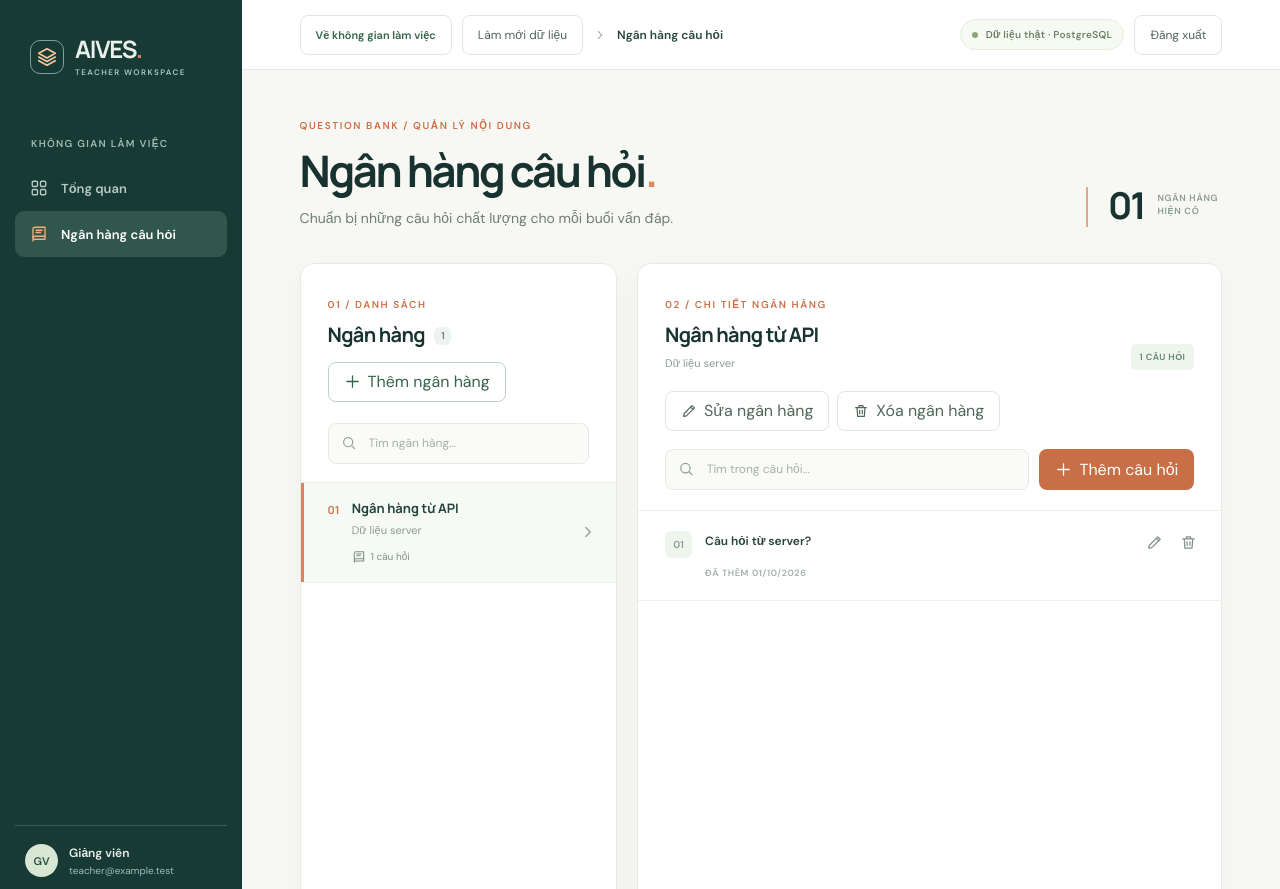
it: Question Bank API-connected route › keeps a nonempty bank on 409 and removes it only after a successful DELETE
Expected: the text "Câu hỏi từ server?" is shown, 705,533 -> 811,549
Click the button "Xóa ngân hàng". click: (919,411)
box: 837,391 -> 1000,431
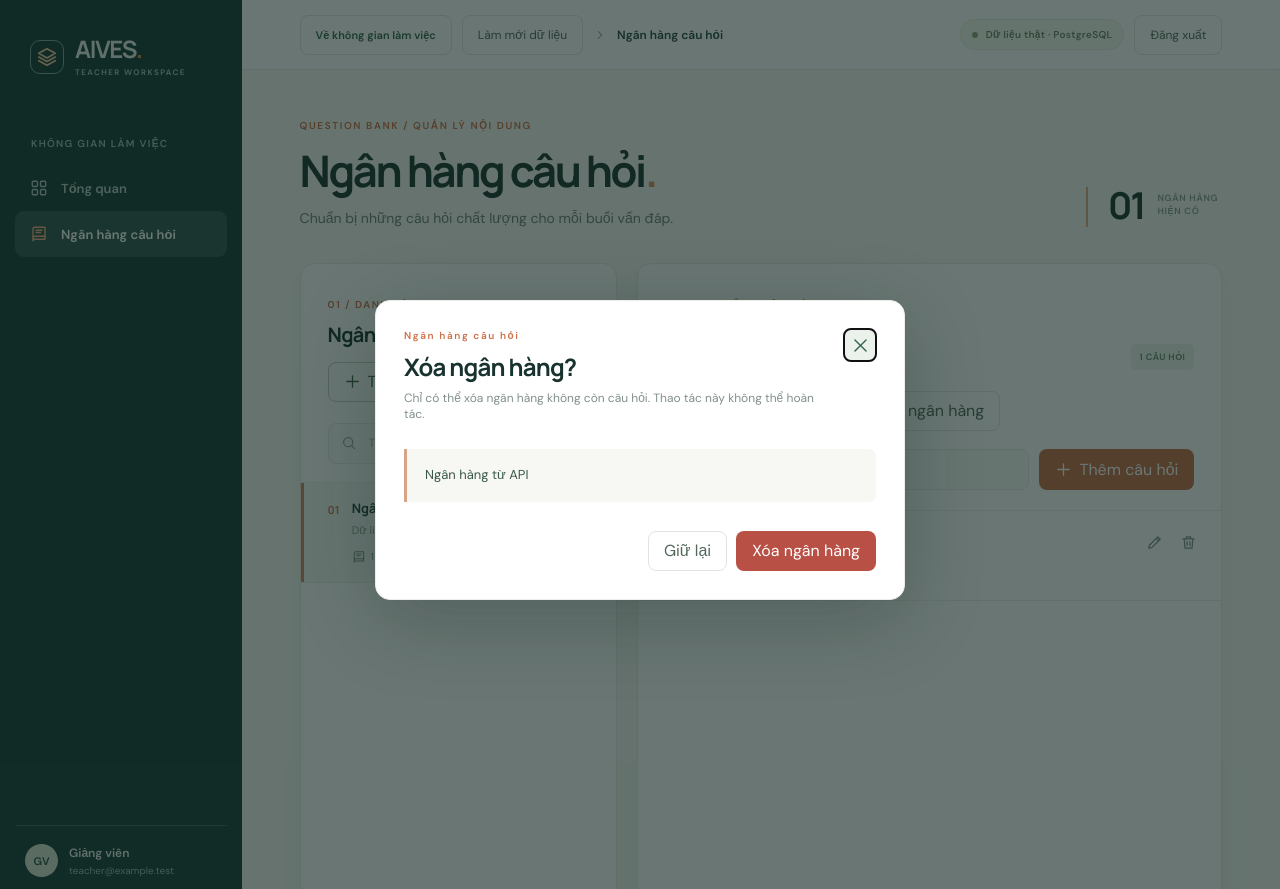
Click the button "Xóa ngân hàng". click: (806,551)
box: 736,531 -> 876,571
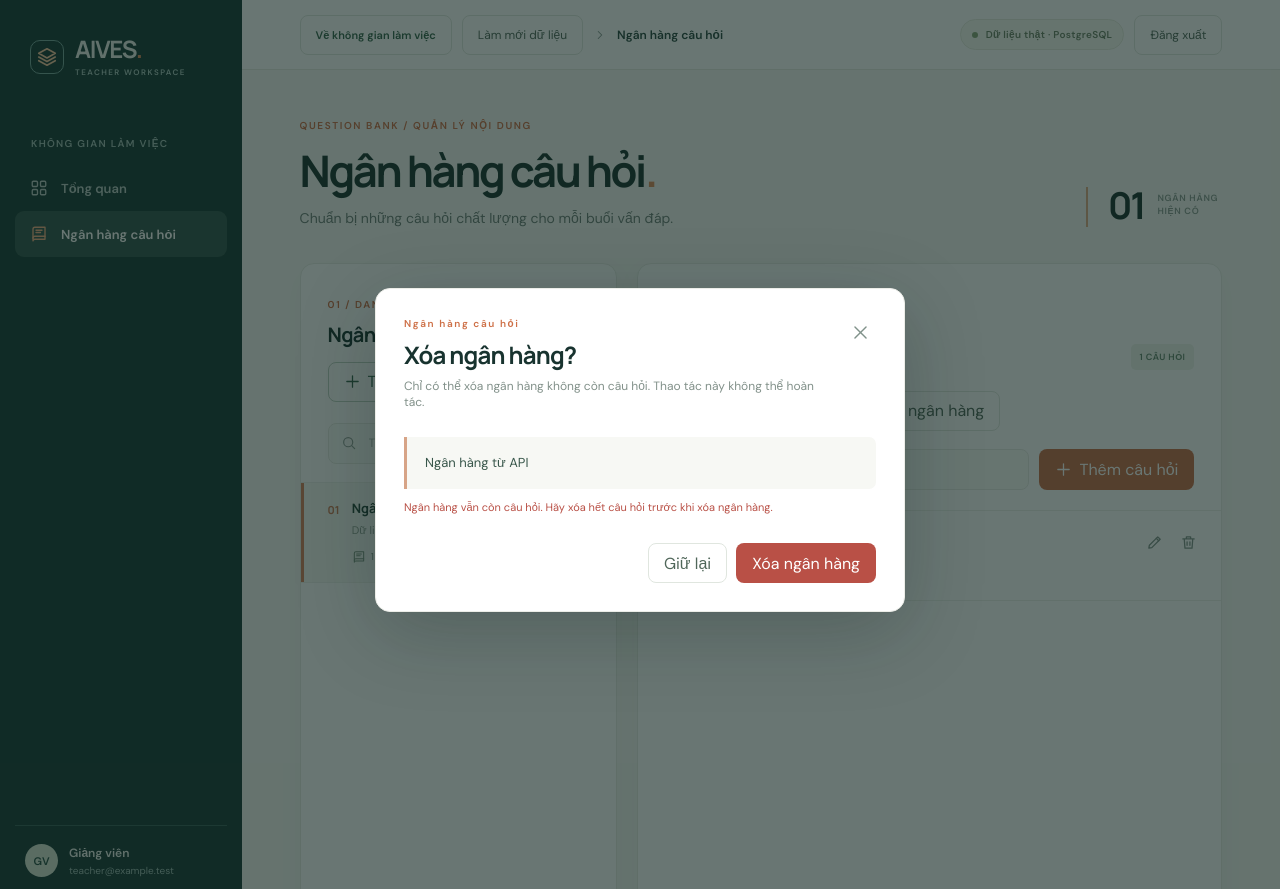
Now the text "Ngân hàng vẫn còn câu hỏi. Hãy xóa hết câu hỏi trước khi xóa ngân hàng." is shown, box 404,500 -> 773,514
Click the button "Xóa ngân hàng". click: (806,563)
box: 736,543 -> 876,583
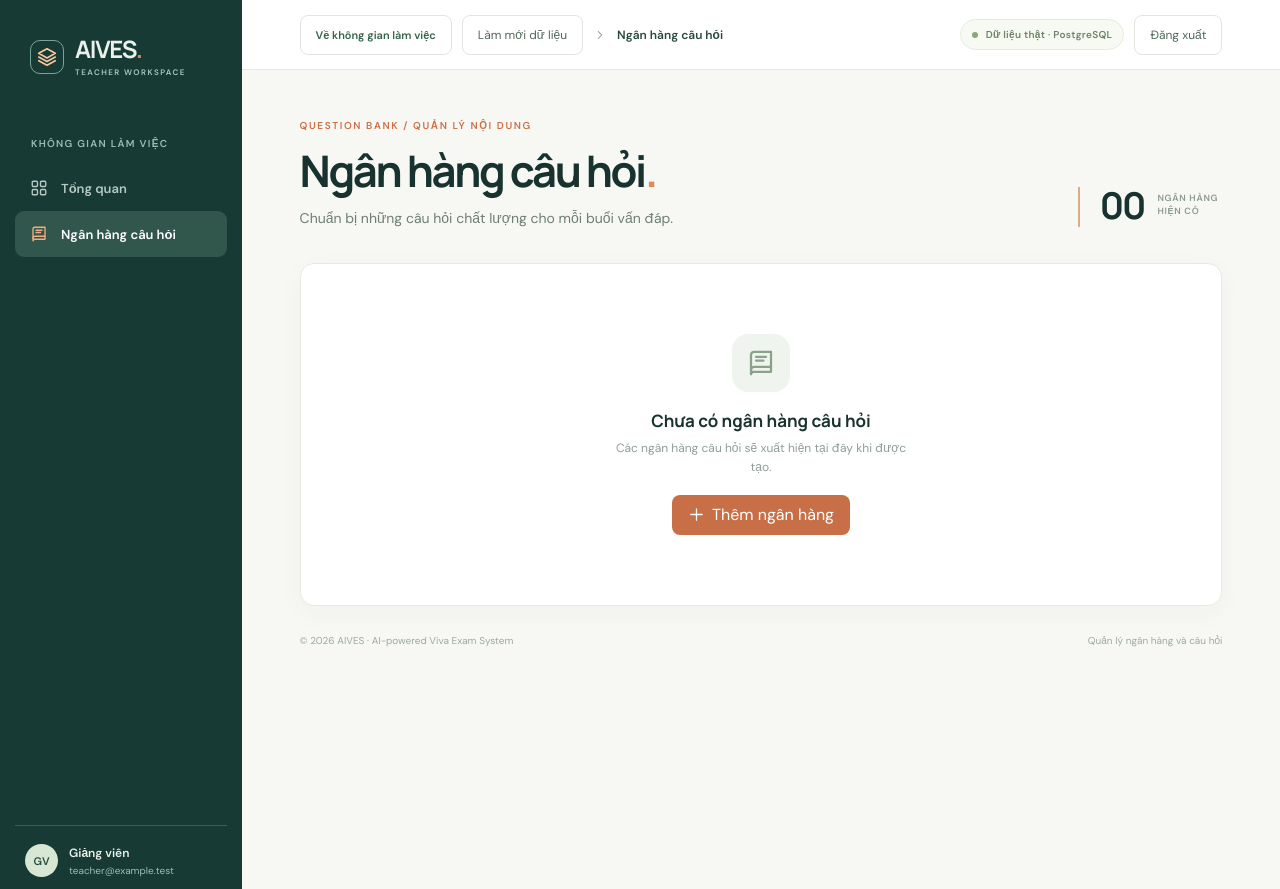
Now the heading "Chưa có ngân hàng câu hỏi" is shown, box 651,410 -> 871,432
Now the text "Câu hỏi từ server?" is gone
